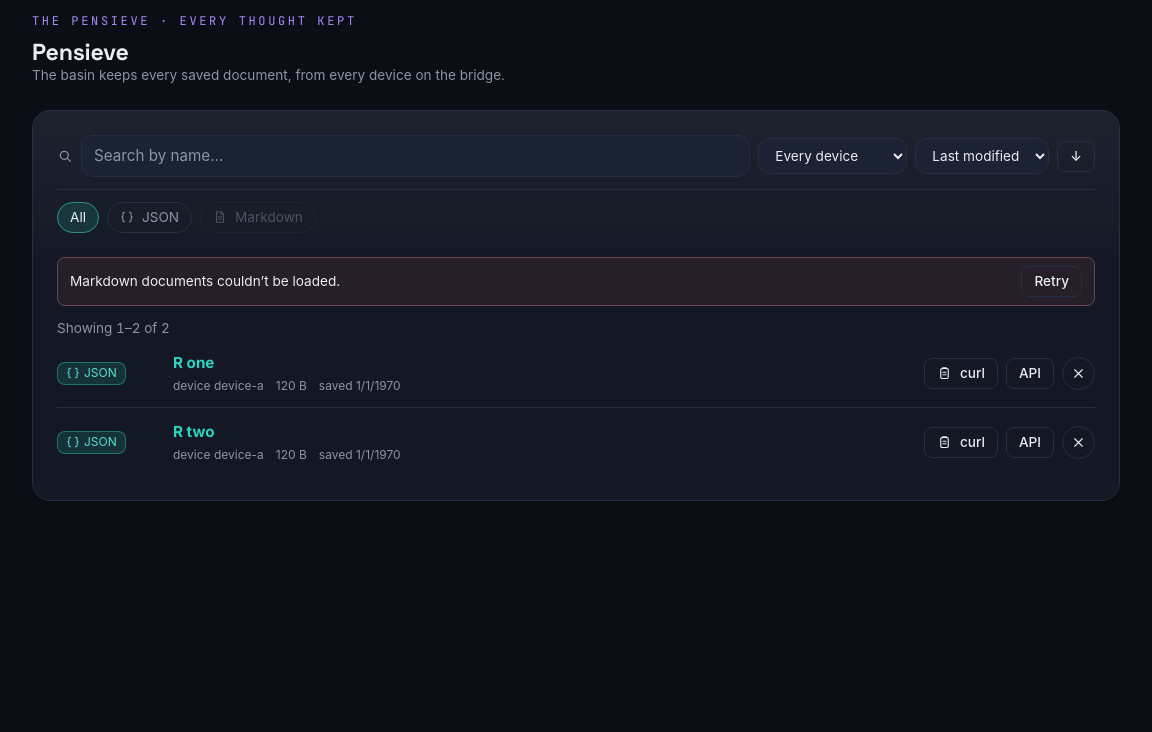
Test: PensievePage › retries by rebuilding the current page with the recovered kind included
Expected: the message "Markdown documents couldn’t be loaded. Retry" is shown, [57,257,1095,306]
Click the button "Retry": [1052, 281] box [1022,266,1082,297]
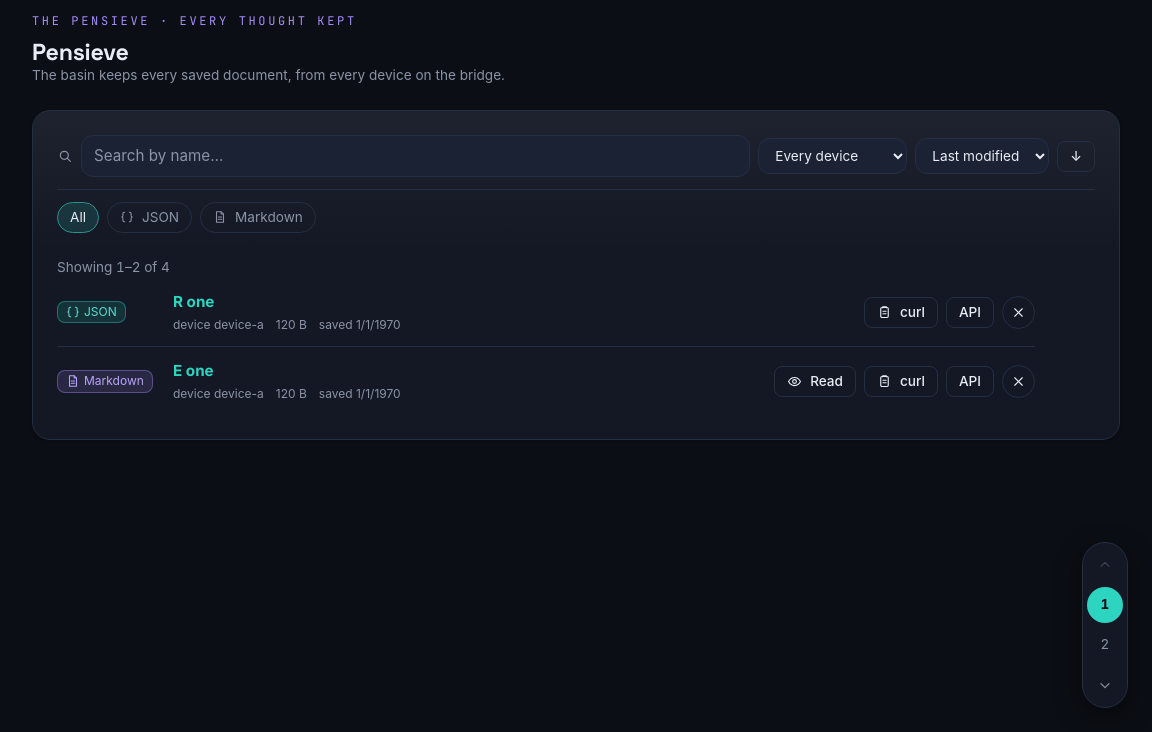
Expected: the message with class "lib-failed" is gone
Expected: the element with class "lib-status" reads "Showing 1–2 of 4", [57,259,170,275]
